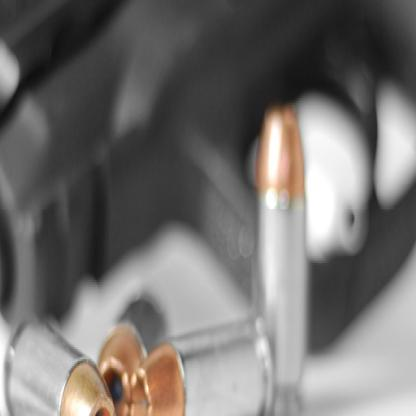gun: (0, 0, 415, 363)
